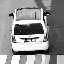mobil: (8, 6, 53, 53)
